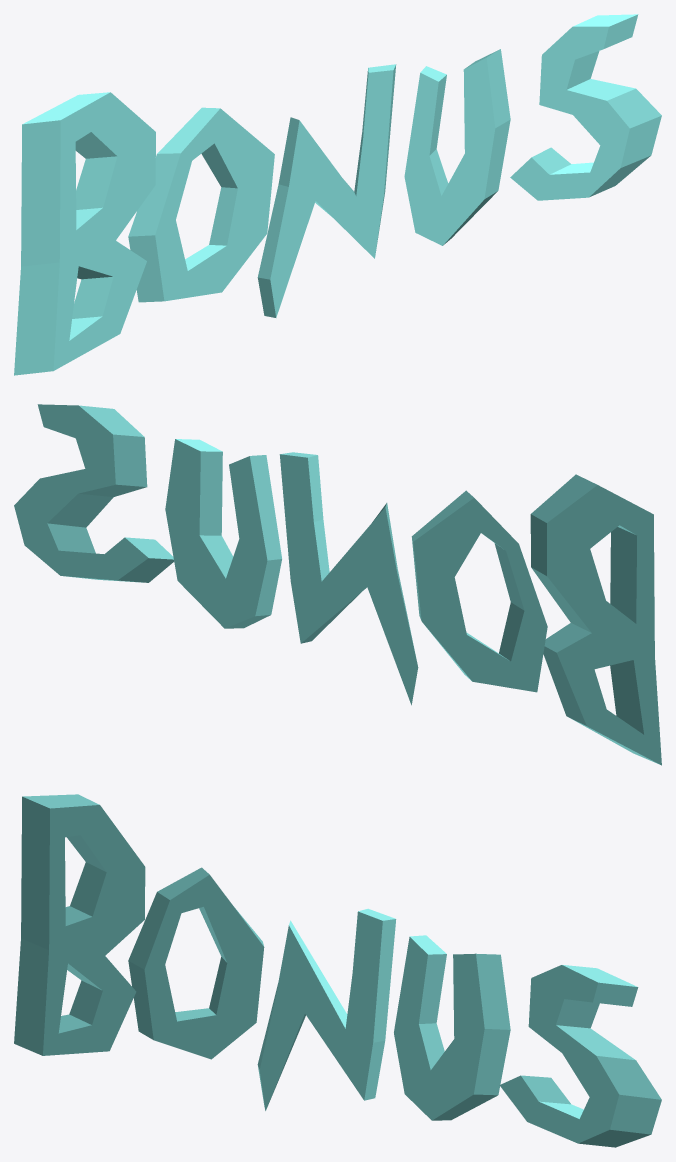
The model's file is bonus.fbx.
The picture shows the model from 3 angles, top to bottom: view 1: azimuth 30°, elevation 25°; view 2: azimuth 150°, elevation 25°; view 3: azimuth 330°, elevation 25°; orthographic projection.
Visible parts, largest first — view 1: Plane; view 2: Plane; view 3: Plane.
Part boxes in pixels (left/top/right/bottom): Plane: left=14, top=14, right=661, bottom=375; Plane: left=14, top=404, right=661, bottom=765; Plane: left=14, top=794, right=661, bottom=1147.
Size of the model in its own units: 50.62 by 19.89 by 0.7229.
